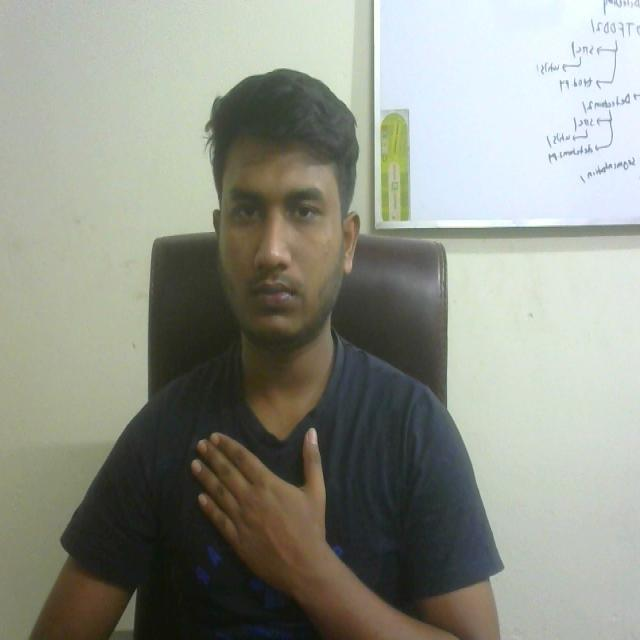E: (181, 416, 354, 608)
